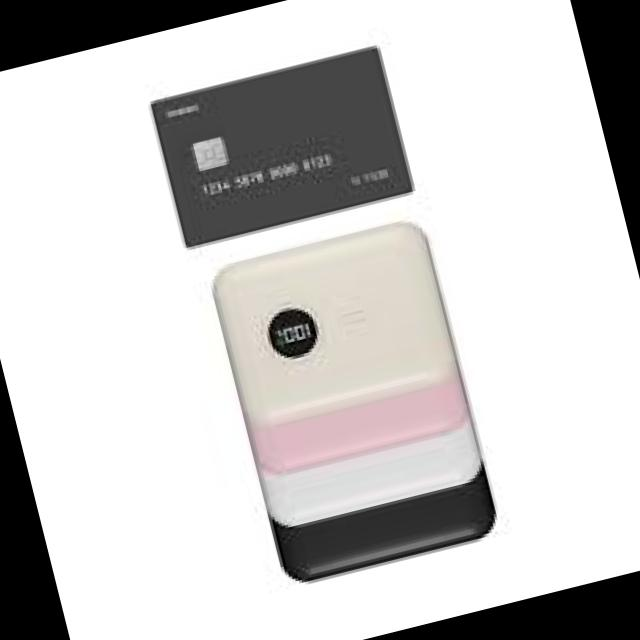portable-charger: (207, 211, 462, 429), (270, 474, 507, 584), (246, 370, 477, 482), (264, 425, 487, 533)
